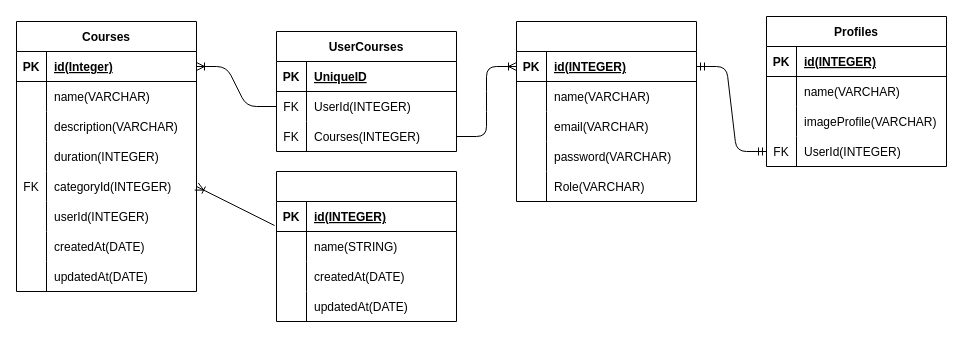
Some shapes in this 963 by 338 pixel diagram are drawn without their labels. The box of each missing label's shape, as (x1, y1, x2, y2) in pixels:
Categories: (276, 170, 456, 322)
Users: (516, 20, 696, 202)
